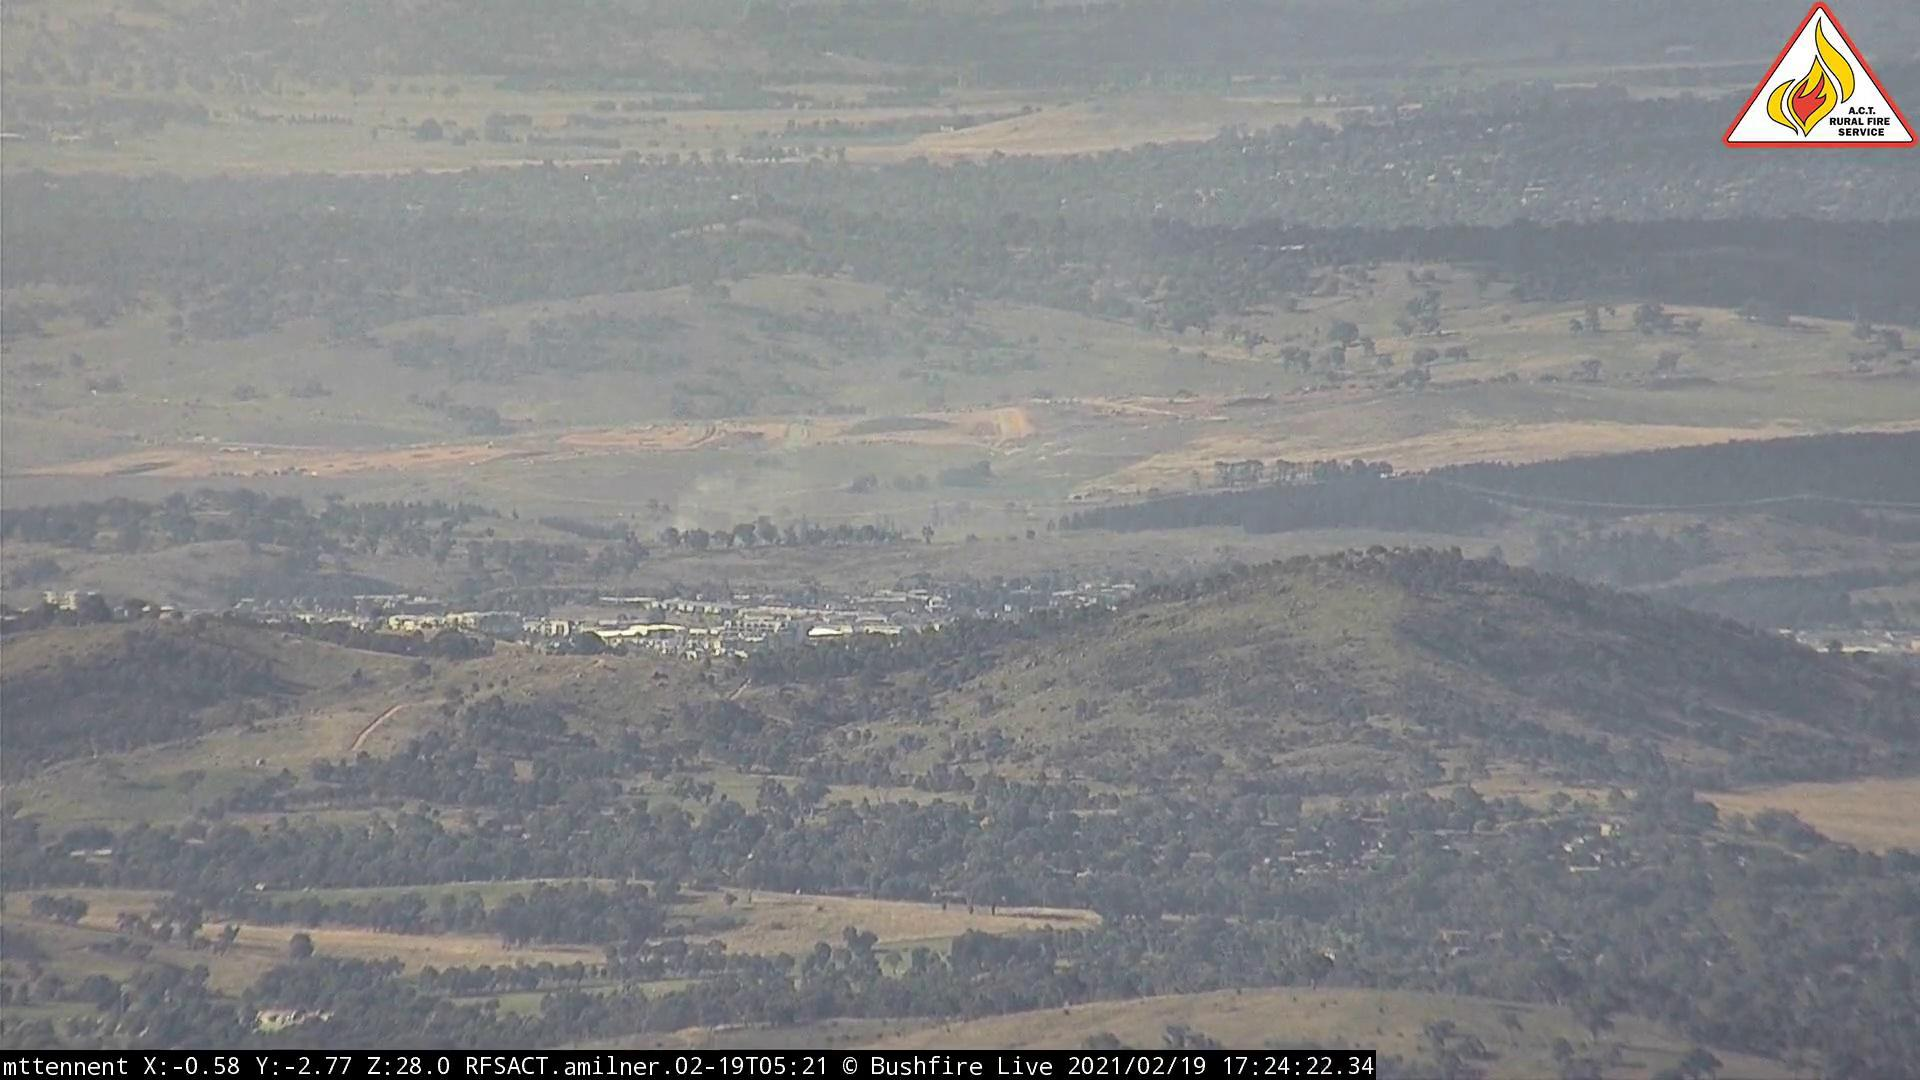instance_salient_object: (640, 454, 814, 551)
